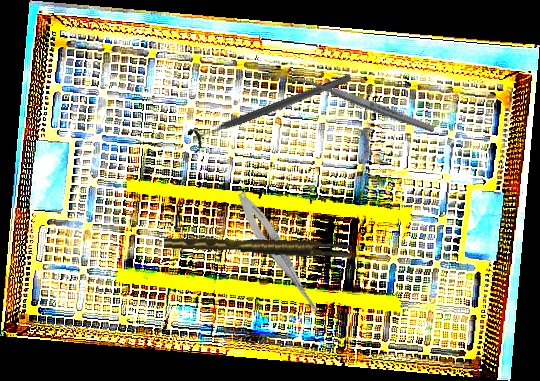Fixation Ring: (185, 65, 356, 155)
Micro Scissor: (231, 188, 332, 324)
Surgical Spoon: (288, 69, 436, 135)
Tissue Forceps: (163, 227, 353, 265)
